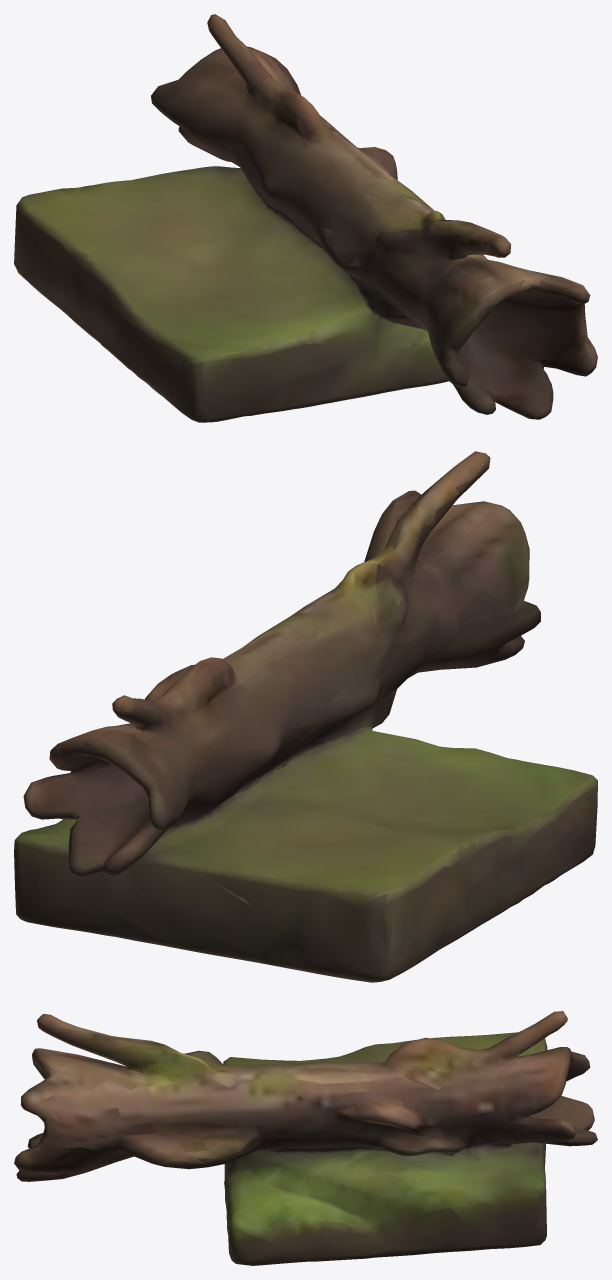
The model's file is m21_tronco_caido_grama.glb.
The picture shows the model from 3 angles, top to bottom: view 1: azimuth 30°, elevation 25°; view 2: azimuth 150°, elevation 25°; view 3: azimuth 270°, elevation 25°; orthographic projection. The views are drawn at different scales.
Parts seen in each view (by area): view 1: m21_tronco_caido_grama; view 2: m21_tronco_caido_grama; view 3: m21_tronco_caido_grama.
Boxes of the visible parts, <box> form: m21_tronco_caido_grama: <box>14,14,597,422</box>; m21_tronco_caido_grama: <box>14,451,597,982</box>; m21_tronco_caido_grama: <box>14,1011,597,1265</box>.
Bounding box in the file's own units: 0.9532 × 0.701 × 1.73.
1 material, 1 textured.
